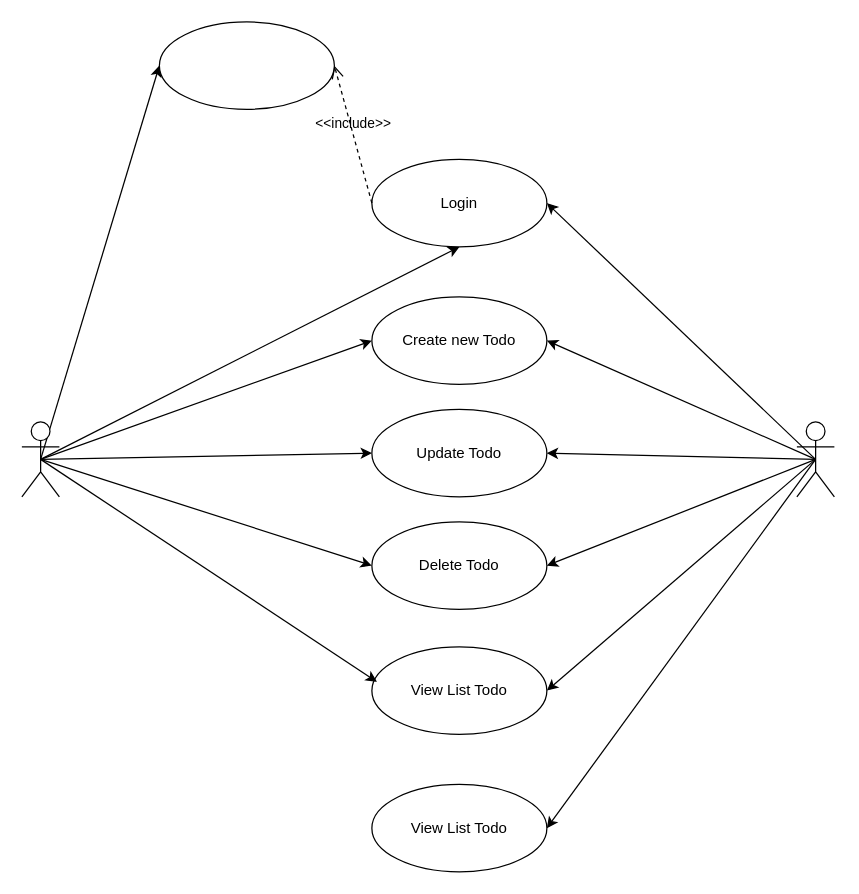
The diagram is 859 pixels wide and 894 high, and some of its shapes have lost their labels. The box of each missing label's shape, as (x1, y1, x2, y2) in pixels:
Admin: (796, 421, 834, 497)
Register: (158, 21, 334, 109)
User: (21, 421, 59, 497)
